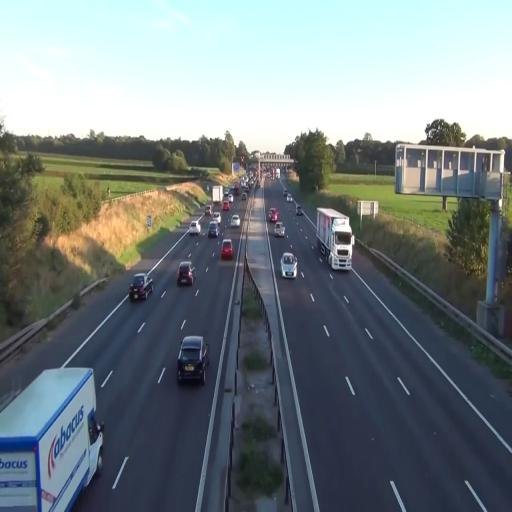vehicle: (0, 364, 104, 510), (316, 206, 354, 270), (176, 336, 209, 386), (329, 218, 354, 271), (128, 274, 152, 302), (176, 259, 195, 287), (280, 250, 298, 278), (220, 238, 234, 262), (208, 220, 220, 239), (189, 219, 201, 236)
